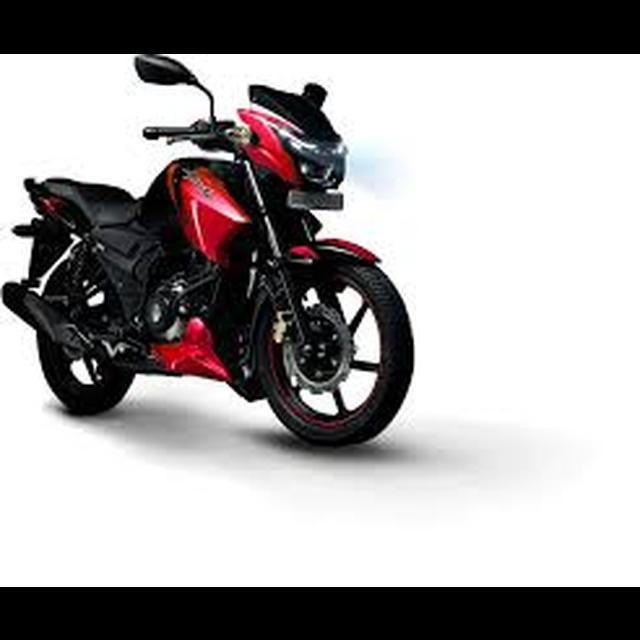motorcycle: (1, 53, 418, 456)
